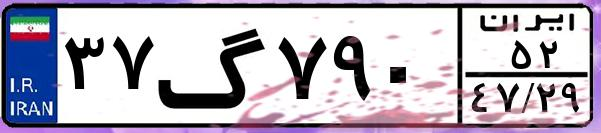0: (385, 28, 445, 110)
2: (537, 27, 568, 80), (535, 70, 560, 125)
3: (57, 26, 110, 100)
4: (470, 70, 495, 125)
5: (508, 27, 537, 80)
7: (270, 28, 330, 110), (110, 28, 156, 98), (495, 70, 520, 125)
9: (330, 28, 385, 110), (560, 70, 590, 125)
گ: (156, 12, 270, 120)
